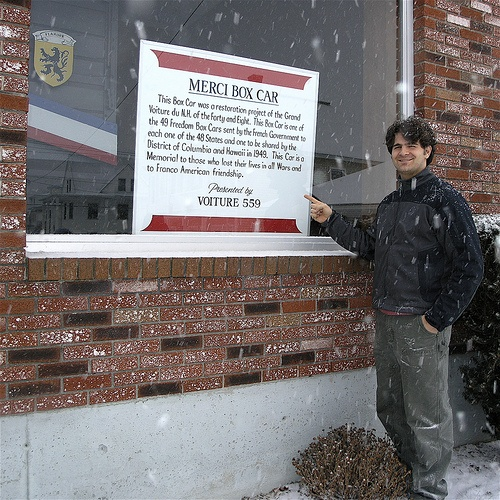head: (391, 120, 434, 172)
person: (303, 114, 488, 500)
